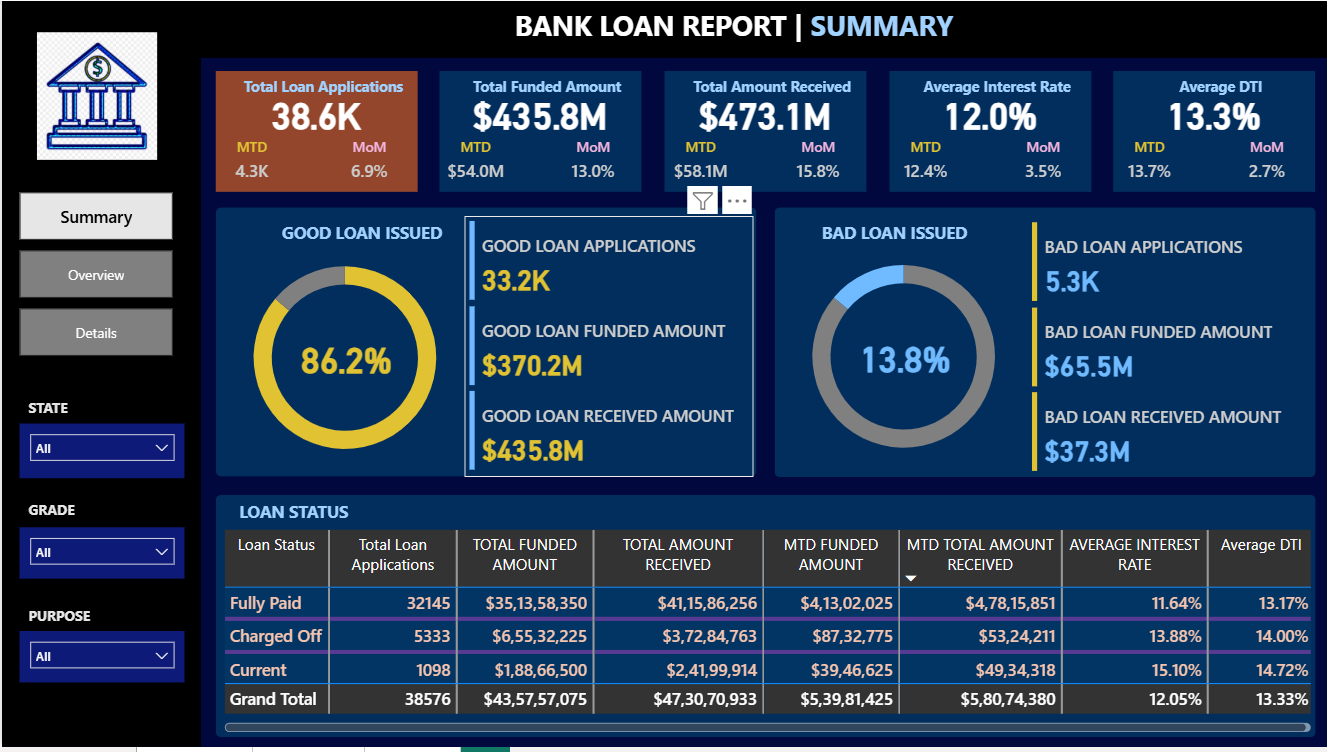

What the dashboard file says about the page in this screenshot:
{"tool":"powerbi","page":{"name":"Summary","canvas":[1280,720],"ordinal":0},"visuals":[{"type":"shape","box":[0,0,1280.3,54.9],"z":0},{"type":"shape","box":[0,54.9,192,665.5],"z":1000},{"type":"shape","box":[205.8,67.2,194.9,116.6],"z":1000,"group":"g1"},{"type":"shape","box":[422.6,67.2,194.9,116.6],"z":1000,"group":"g2"},{"type":"shape","box":[639.5,67.2,194.9,116.6],"z":1000,"group":"g3"},{"type":"shape","box":[856.3,67.2,194.9,116.6],"z":1000,"group":"g4"},{"type":"shape","box":[1073.1,67.2,194.9,116.6],"z":1000,"group":"g5"},{"type":"textbox","box":[489.9,0,455.6,54.9],"z":2000},{"type":"shape","box":[206.3,199.1,522,260],"z":3000},{"type":"group","id":"g1","title":"Group 1","box":[205.8,67.2,194.9,116.6],"z":4000},{"type":"card","fields":{"Values":["financial_loan.Total Loan Applications"]},"box":[229.1,83.7,148.2,48],"z":4000,"group":"g1"},{"type":"card","fields":{"Values":["financial_loan.TOTAL FUNDED AMOUNT"]},"box":[445.9,83.7,148.2,48],"z":4000,"group":"g2"},{"type":"card","fields":{"Values":["financial_loan.TOTAL AMOUNT RECEIVED"]},"box":[662.8,83.7,148.2,48],"z":4000,"group":"g3"},{"type":"card","fields":{"Values":["financial_loan.AVERAGE INTEREST RATE"]},"box":[879.6,83.7,148.2,48],"z":4000,"group":"g4"},{"type":"card","fields":{"Values":["financial_loan.Average DTI"]},"box":[1096.4,83.7,148.2,48],"z":4000,"group":"g5"},{"type":"textbox","box":[219.5,67.2,181.1,32.9],"z":5000,"group":"g1"},{"type":"group","id":"g2","title":"Group 1","box":[422.6,67.2,194.9,116.6],"z":5000},{"type":"textbox","box":[436.3,67.2,181.1,32.9],"z":5000,"group":"g2"},{"type":"textbox","box":[653.2,67.2,181.1,32.9],"z":5000,"group":"g3"},{"type":"textbox","box":[870,67.2,181.1,32.9],"z":5000,"group":"g4"},{"type":"textbox","box":[1086.8,67.2,181.1,32.9],"z":5000,"group":"g5"},{"type":"card","title":"MTD","fields":{"Values":["financial_loan.MTD LOAN APPLICATIONS"]},"box":[205.8,131.7,70,52.1],"z":6000,"group":"g1"},{"type":"card","title":"MTD","fields":{"Values":["financial_loan.MTD FUNDED AMOUNT"]},"box":[422.6,131.7,70,52.1],"z":6000,"group":"g2"},{"type":"card","title":"MTD","fields":{"Values":["financial_loan.MTD TOTAL AMOUNT RECEIVED"]},"box":[639.5,131.7,70,52.1],"z":6000,"group":"g3"},{"type":"card","title":"MTD","fields":{"Values":["financial_loan.MTD average INTEREST RATE"]},"box":[856.3,131.7,70,52.1],"z":6000,"group":"g4"},{"type":"card","title":"MTD","fields":{"Values":["financial_loan.MTD Average DTI"]},"box":[1073.1,131.7,70,52.1],"z":6000,"group":"g5"},{"type":"card","fields":{"Values":["financial_loan.Good Loan %"]},"box":[258.2,320.9,148.4,47.1],"z":6000},{"type":"card","title":"MoM","fields":{"Values":["financial_loan.MoM LOAN APPLICATIONS"]},"box":[319.7,131.7,70,52.1],"z":7000,"group":"g1"},{"type":"card","title":"MoM","fields":{"Values":["financial_loan.MoM TOTAL FUNDED AMOUNT"]},"box":[536.5,131.7,70,52.1],"z":7000,"group":"g2"},{"type":"card","title":"MoM","fields":{"Values":["financial_loan.MoM TOTAL AMOUNT RECEIVED"]},"box":[753.4,131.7,70,52.1],"z":7000,"group":"g3"},{"type":"card","title":"MoM","fields":{"Values":["financial_loan.MoM AVERAGE INTEREST RATE"]},"box":[970.2,131.7,70,52.1],"z":7000,"group":"g4"},{"type":"card","title":"MoM","fields":{"Values":["financial_loan.MoM AVERAGE DTI"]},"box":[1187,131.7,70,52.1],"z":7000,"group":"g5"},{"type":"textbox","box":[258.2,207.5,178.6,37.4],"z":7000},{"type":"group","id":"g3","title":"Group 1","box":[639.5,67.2,194.9,116.6],"z":8000},{"type":"group","id":"g4","title":"Group 1","box":[856.3,67.2,194.9,116.6],"z":9000},{"type":"group","id":"g5","title":"Group 1","box":[1073.1,67.2,194.9,116.6],"z":10000},{"type":"donutChart","fields":{"Category":["financial_loan.Good vs Bad Loan"],"Y":["financial_loan.Total Loan Applications"]},"box":[206.3,229.2,249.7,230.4],"z":11000},{"type":"shape","box":[745.6,199.1,522.4,260.6],"z":12000},{"type":"cardVisual","fields":{"Data":["financial_loan.GOOD LOAN APPLICATIONS","financial_loan.GOOD LOAN FUNDED AMOUNT","financial_loan.GOOD LOAN  RECEIVED AMOUNT"]},"box":[446.4,207.5,278.7,252.1],"z":13000},{"type":"donutChart","fields":{"Category":["financial_loan.Good vs Bad Loan"],"Y":["financial_loan.Total Loan Applications"]},"box":[745.6,228,249.7,230.4],"z":14000},{"type":"textbox","box":[762.5,207.5,197.9,37.4],"z":15000},{"type":"card","fields":{"Values":["financial_loan.BAD Loan %"]},"box":[797.5,319.7,148.4,47.1],"z":16000},{"type":"cardVisual","fields":{"Data":["financial_loan.BAD LOAN APPLICATIONS","financial_loan.BAD LOAN FUNDED AMOUNT","financial_loan.BAD LOAN  RECEIVED AMOUNT"]},"box":[989.3,208.7,278.7,252.1],"z":17000},{"type":"shape","box":[206.3,476.5,1061.7,234],"z":18000},{"type":"tableEx","fields":{"Values":["financial_loan.loan_status","financial_loan.Total Loan Applications","financial_loan.TOTAL FUNDED AMOUNT","financial_loan.TOTAL AMOUNT RECEIVED","financial_loan.MTD FUNDED AMOUNT","financial_loan.MTD TOTAL AMOUNT RECEIVED","financial_loan.AVERAGE INTEREST RATE","financial_loan.Average DTI"]},"box":[208.7,505.5,1059.3,205.1],"z":19000},{"type":"textbox","box":[219.6,476.5,158,41],"z":20000},{"type":"slicer","fields":{"Values":["financial_loan.address_state"]},"box":[16.9,407.8,159.3,53.1],"z":21000},{"type":"textbox","box":[16.9,378.8,148.4,29],"z":22000},{"type":"slicer","fields":{"Values":["financial_loan.grade"]},"box":[16.9,507.9,159.3,49.5],"z":23000},{"type":"textbox","box":[16.9,476.5,124.3,29],"z":24000},{"type":"slicer","fields":{"Values":["financial_loan.purpose"]},"box":[16.9,608,159.3,49.5],"z":25000},{"type":"textbox","box":[16.9,579.1,124.3,29],"z":26000},{"type":"image","box":[26.5,25.3,130.3,132.7],"z":27000},{"type":"pageNavigator","box":[16.9,184.6,148.4,160.5],"z":28000}]}

Visuals, with their boxes in screenshot pixels (x1, y1, x2, y2), scaled from the page's 1280x720 canvas onto the 1327x752 screenshot:
shape: <region>0, 0, 1326, 57</region>
shape: <region>0, 57, 199, 751</region>
shape: <region>213, 70, 415, 192</region>
shape: <region>438, 70, 640, 192</region>
shape: <region>663, 70, 865, 192</region>
shape: <region>888, 70, 1090, 192</region>
shape: <region>1113, 70, 1315, 192</region>
textbox: <region>508, 0, 980, 57</region>
shape: <region>214, 208, 755, 480</region>
"Group 1" group: <region>213, 70, 415, 192</region>
card - financial_loan.Total Loan Applications: <region>238, 87, 391, 138</region>
card - financial_loan.TOTAL FUNDED AMOUNT: <region>462, 87, 616, 138</region>
card - financial_loan.TOTAL AMOUNT RECEIVED: <region>687, 87, 841, 138</region>
card - financial_loan.AVERAGE INTEREST RATE: <region>912, 87, 1066, 138</region>
card - financial_loan.Average DTI: <region>1137, 87, 1290, 138</region>
textbox: <region>228, 70, 415, 105</region>
"Group 1" group: <region>438, 70, 640, 192</region>
textbox: <region>452, 70, 640, 105</region>
textbox: <region>677, 70, 865, 105</region>
textbox: <region>902, 70, 1090, 105</region>
textbox: <region>1127, 70, 1314, 105</region>
"MTD" card: <region>213, 138, 286, 192</region>
"MTD" card: <region>438, 138, 511, 192</region>
"MTD" card: <region>663, 138, 736, 192</region>
"MTD" card: <region>888, 138, 960, 192</region>
"MTD" card: <region>1113, 138, 1185, 192</region>
card - financial_loan.Good Loan %: <region>268, 335, 422, 384</region>
"MoM" card: <region>331, 138, 404, 192</region>
"MoM" card: <region>556, 138, 629, 192</region>
"MoM" card: <region>781, 138, 854, 192</region>
"MoM" card: <region>1006, 138, 1078, 192</region>
"MoM" card: <region>1231, 138, 1303, 192</region>
textbox: <region>268, 217, 453, 256</region>
"Group 1" group: <region>663, 70, 865, 192</region>
"Group 1" group: <region>888, 70, 1090, 192</region>
"Group 1" group: <region>1113, 70, 1315, 192</region>
donutChart - financial_loan.Good vs Bad Loan x financial_loan.Total Loan Applications: <region>214, 239, 473, 480</region>
shape: <region>773, 208, 1315, 480</region>
cardVisual - financial_loan.GOOD LOAN APPLICATIONS x financial_loan.GOOD LOAN FUNDED AMOUNT: <region>463, 217, 752, 480</region>
donutChart - financial_loan.Good vs Bad Loan x financial_loan.Total Loan Applications: <region>773, 238, 1032, 479</region>
textbox: <region>790, 217, 996, 256</region>
card - financial_loan.BAD Loan %: <region>827, 334, 981, 383</region>
cardVisual - financial_loan.BAD LOAN APPLICATIONS x financial_loan.BAD LOAN FUNDED AMOUNT: <region>1026, 218, 1315, 481</region>
shape: <region>214, 498, 1315, 742</region>
tableEx - financial_loan.loan_status x financial_loan.Total Loan Applications: <region>216, 528, 1315, 742</region>
textbox: <region>228, 498, 391, 540</region>
slicer - financial_loan.address_state: <region>18, 426, 183, 481</region>
textbox: <region>18, 396, 171, 426</region>
slicer - financial_loan.grade: <region>18, 530, 183, 582</region>
textbox: <region>18, 498, 146, 528</region>
slicer - financial_loan.purpose: <region>18, 635, 183, 687</region>
textbox: <region>18, 605, 146, 635</region>
image: <region>27, 26, 163, 165</region>
pageNavigator: <region>18, 193, 171, 360</region>
